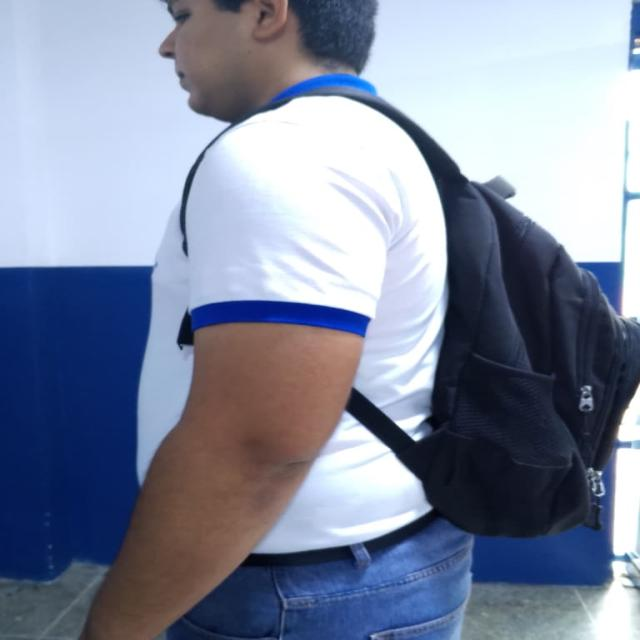uniforme_superior: (136, 73, 448, 556)
